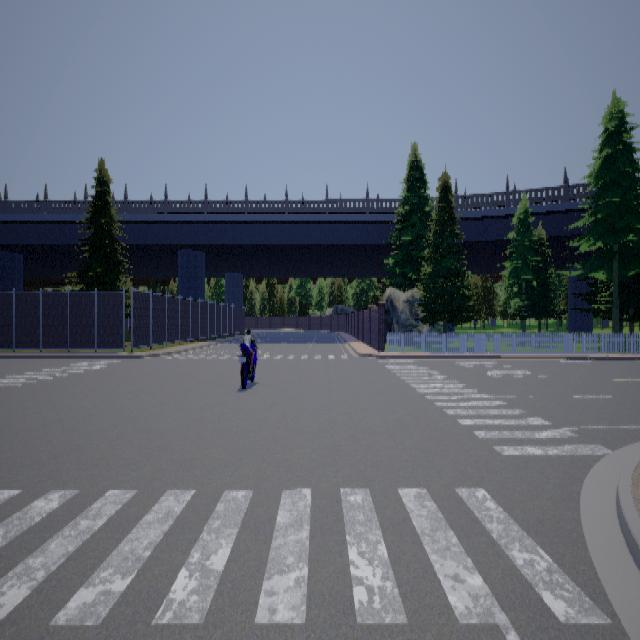motobike: (236, 322, 257, 387)
